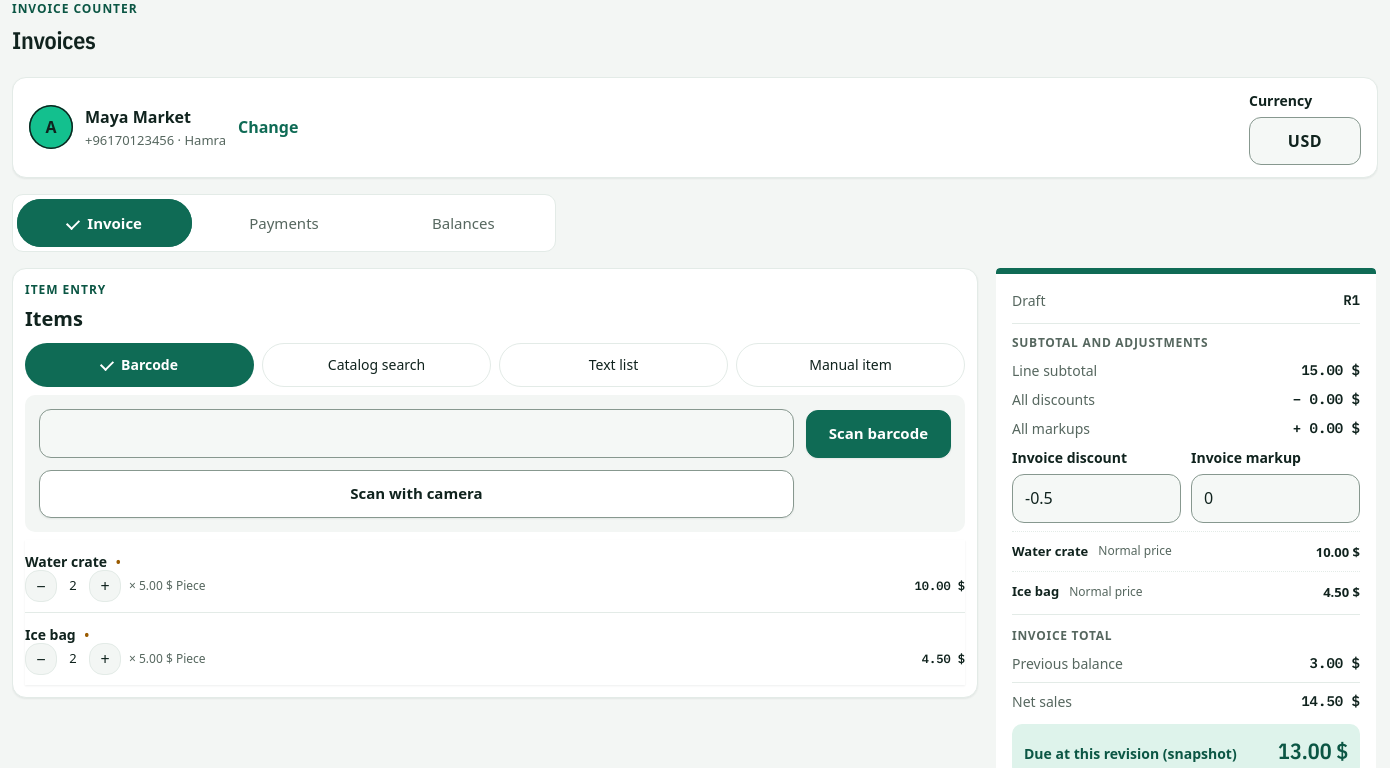
Test: saved adjustments have a compact marker; expanding one line closes the previous line and keeps More state
The width and height of the screenshot is (1390, 768).
Expected: the text "Ice bag" below "Items" is shown, left=25, top=625, right=76, bottom=644
Expected: the text named "Line has adjustments or needs cost setup" is shown, left=84, top=623, right=90, bottom=647
What coordinates should you click on to do the following:
click the button with aria-label "Edit line 1, Water crate"
I would click on:
 (66, 562)
Its box is left=25, top=548, right=965, bottom=604.
(page scrolled)
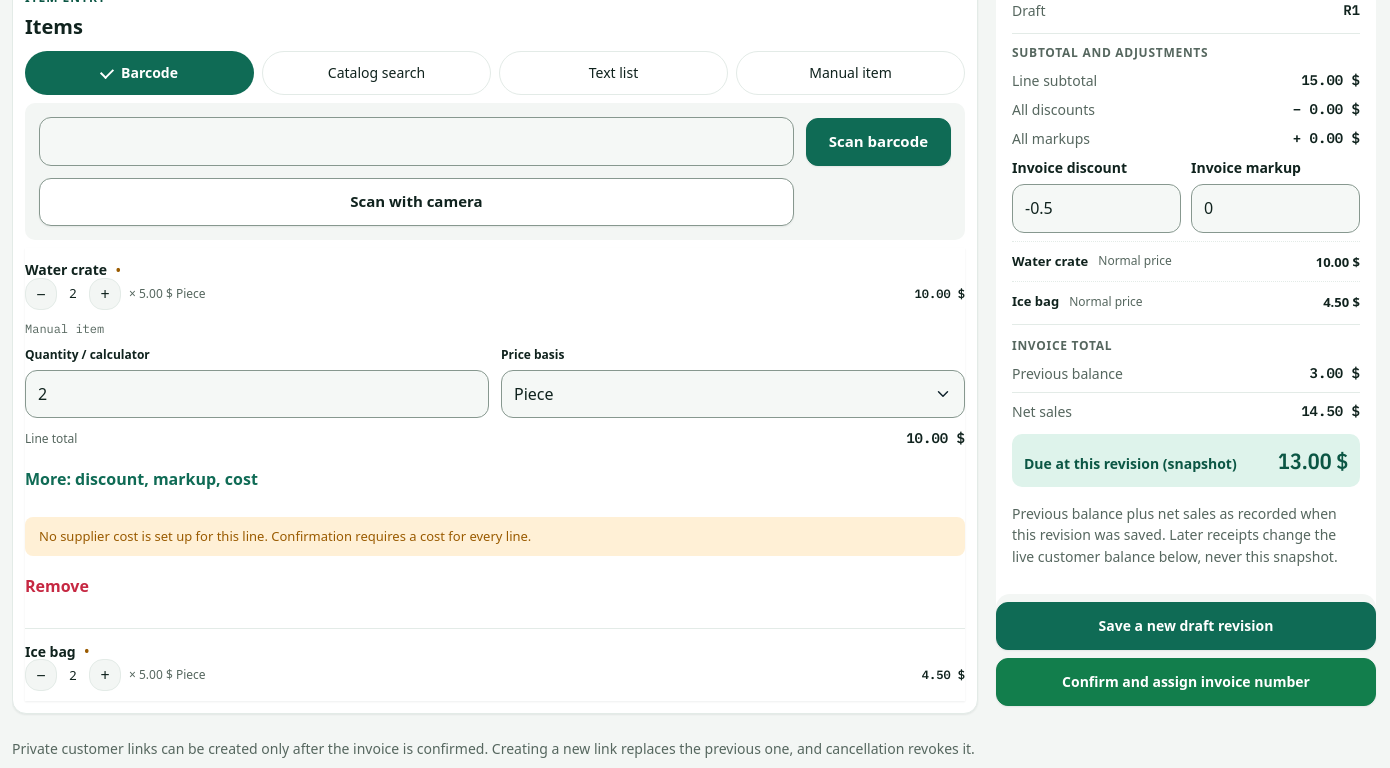
What coordinates should you click on to do the following:
click the button with aria-label "Edit line 2, Ice bag"
I would click on:
 (50, 651)
Its box is left=25, top=638, right=965, bottom=694.
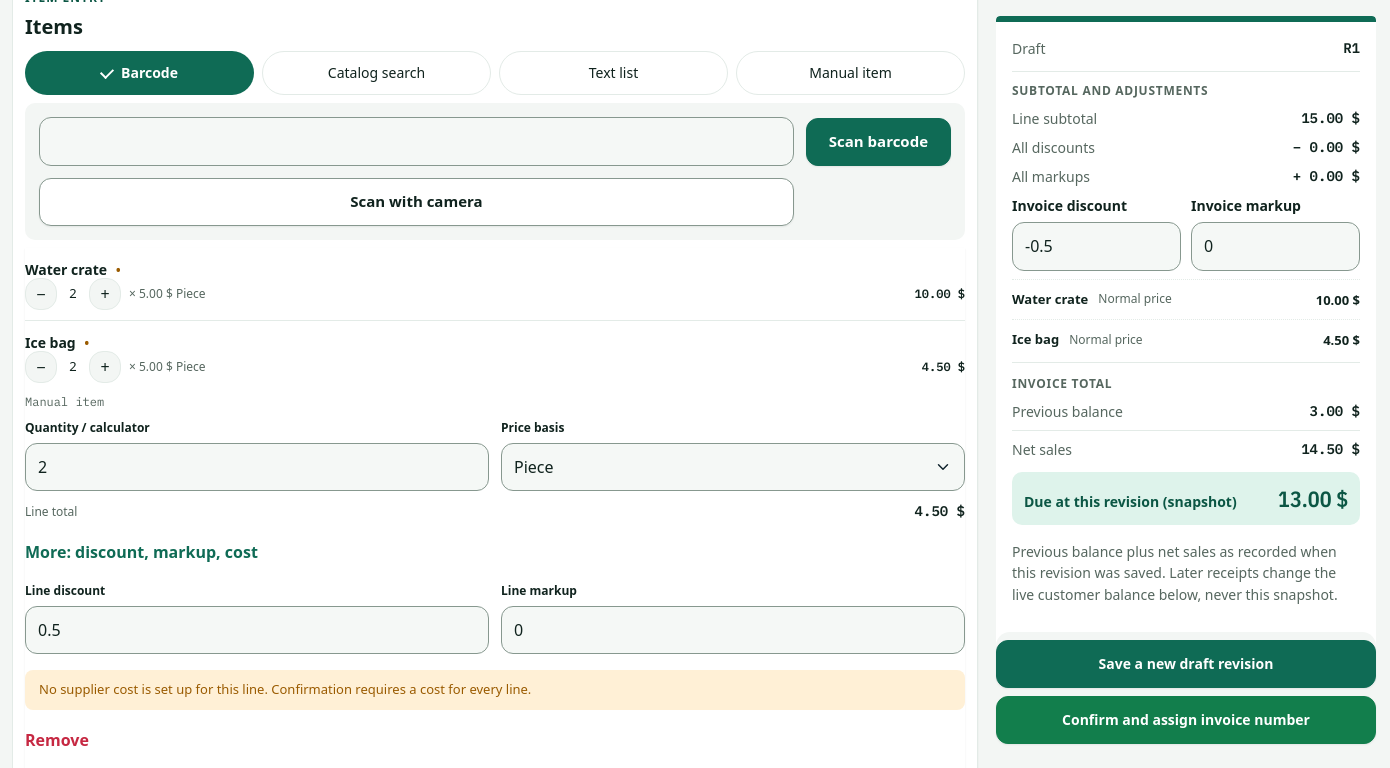
Expected: the 1st text "10.00 $" is shown, left=915, top=285, right=965, bottom=303
Now the button with aria-label "(Ice bag)" is expanded, box left=25, top=530, right=258, bottom=574
Now the field labelled "Line discount" holds "0.5", box left=25, top=606, right=489, bottom=654
